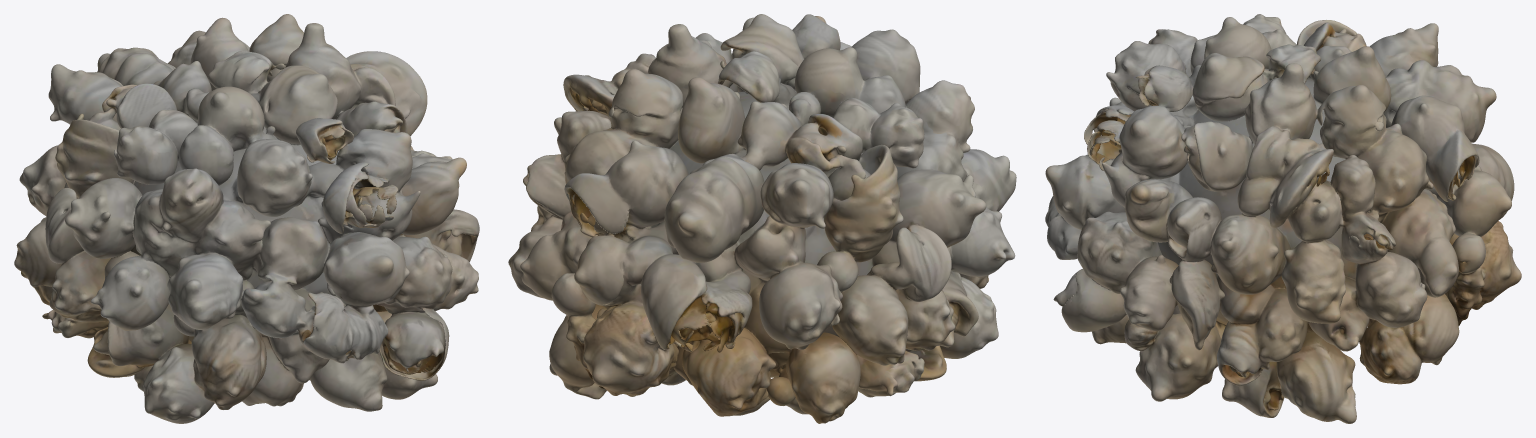
File: barnacle_cluster_a.glb
3 views of the same model, side by side, from view 1: azimuth 30°, elevation 25°; view 2: azimuth 150°, elevation 25°; view 3: azimuth 270°, elevation 25° (orthographic). The views are drawn at different scales.
Parts seen in each view (by area): view 1: tripo_node_0d1aa1d5-6c8f-4737-92c7-3d5daf9b1ae0; view 2: tripo_node_0d1aa1d5-6c8f-4737-92c7-3d5daf9b1ae0; view 3: tripo_node_0d1aa1d5-6c8f-4737-92c7-3d5daf9b1ae0.
Part boxes in pixels (x1,y1,x2,y2): tripo_node_0d1aa1d5-6c8f-4737-92c7-3d5daf9b1ae0: (14,14,479,423); tripo_node_0d1aa1d5-6c8f-4737-92c7-3d5daf9b1ae0: (508,14,1016,423); tripo_node_0d1aa1d5-6c8f-4737-92c7-3d5daf9b1ae0: (1045,14,1521,423).
Bounding box in the file's own units: 0.9148 × 0.7844 × 1.
Materials: 1 (1 with a texture image).
